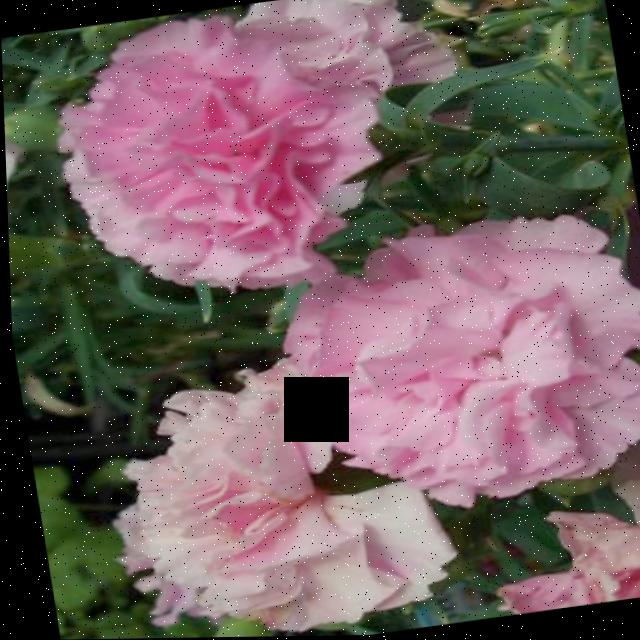carnation: (252, 195, 640, 511), (50, 0, 443, 304), (74, 360, 473, 639)
